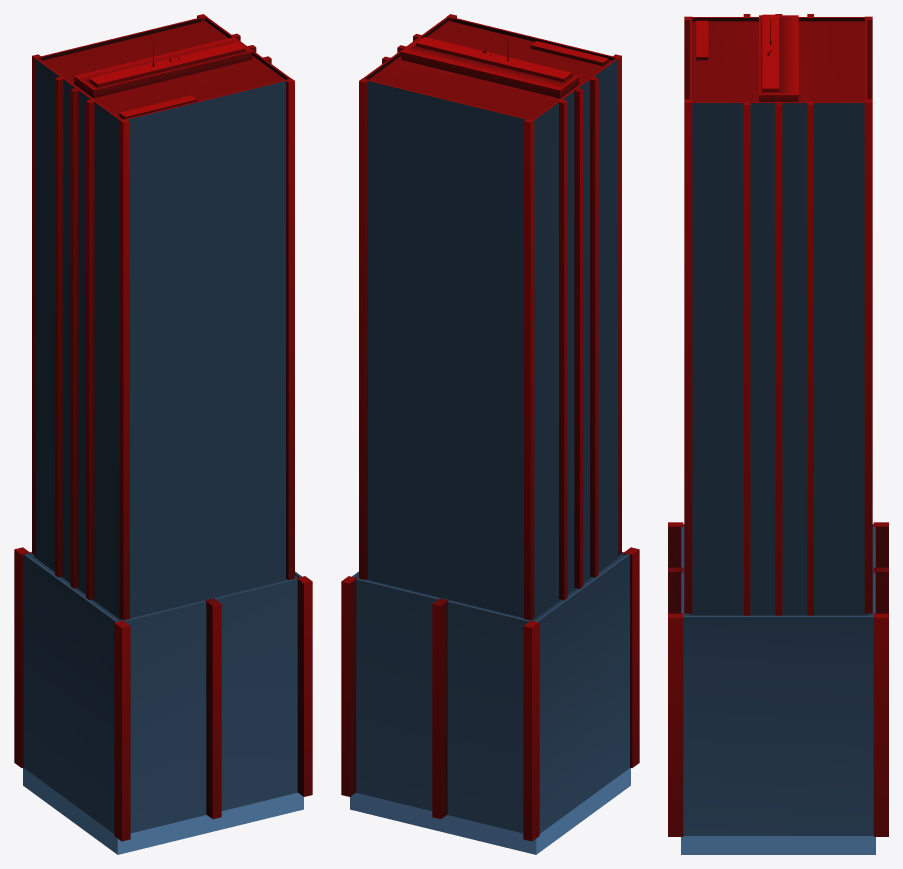
The model's file is buildings-industrial-modernskyscraper_v5.fbx.
3 renders of one model, left to right at view 1: azimuth 30°, elevation 25°; view 2: azimuth 150°, elevation 25°; view 3: azimuth 270°, elevation 25°, orthographic. The views are drawn at different scales.
Visible parts, largest first — view 1: ModernSkyscraper_v5_windowRefl, ModernSkyscraper_v5_base; view 2: ModernSkyscraper_v5_windowRefl, ModernSkyscraper_v5_base; view 3: ModernSkyscraper_v5_windowRefl, ModernSkyscraper_v5_base.
Boxes of the visible parts, box(x1,y1,x2,y2) form: ModernSkyscraper_v5_windowRefl: box(23, 59, 303, 854); ModernSkyscraper_v5_base: box(14, 14, 312, 841); ModernSkyscraper_v5_windowRefl: box(350, 59, 630, 854); ModernSkyscraper_v5_base: box(341, 14, 639, 841); ModernSkyscraper_v5_windowRefl: box(681, 103, 875, 854); ModernSkyscraper_v5_base: box(668, 14, 888, 836).
Size of the model in its own units: 21.51 by 82.06 by 20.99.
